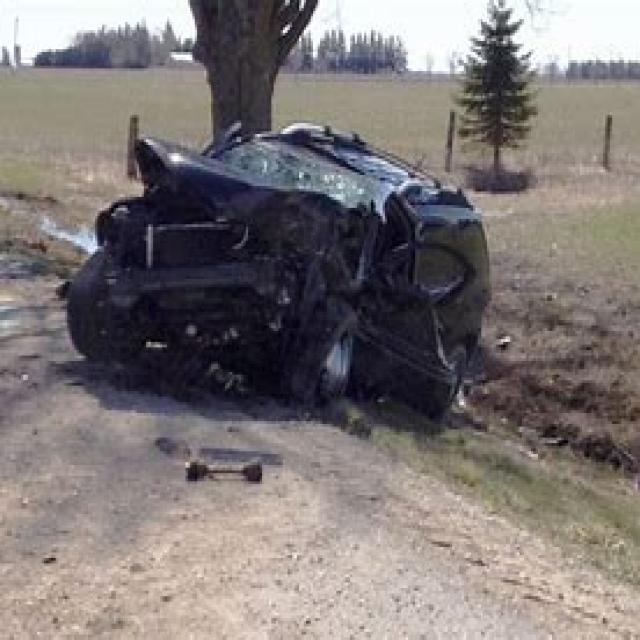Accident: (107, 64, 498, 447)
